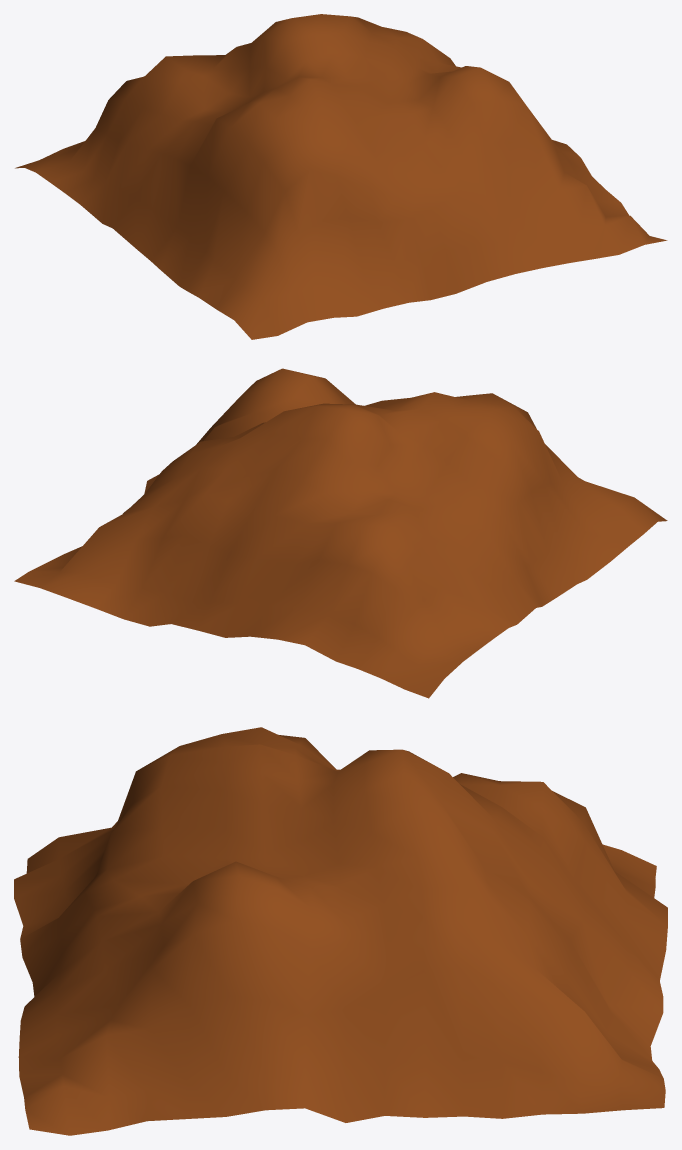
Rendered from mole_hole.fbx.
The picture shows the model from 3 angles, top to bottom: view 1: azimuth 30°, elevation 25°; view 2: azimuth 150°, elevation 25°; view 3: azimuth 270°, elevation 25°; orthographic projection. The views are drawn at different scales.
Visible parts, largest first — view 1: mole_hill_final; view 2: mole_hill_final; view 3: mole_hill_final.
Boxes of the visible parts, x1,y1,x2,y2 form: mole_hill_final: [15, 14, 667, 339]; mole_hill_final: [14, 368, 667, 698]; mole_hill_final: [14, 727, 667, 1135].
Bounding box in the file's own units: 205 × 82.87 × 206.
